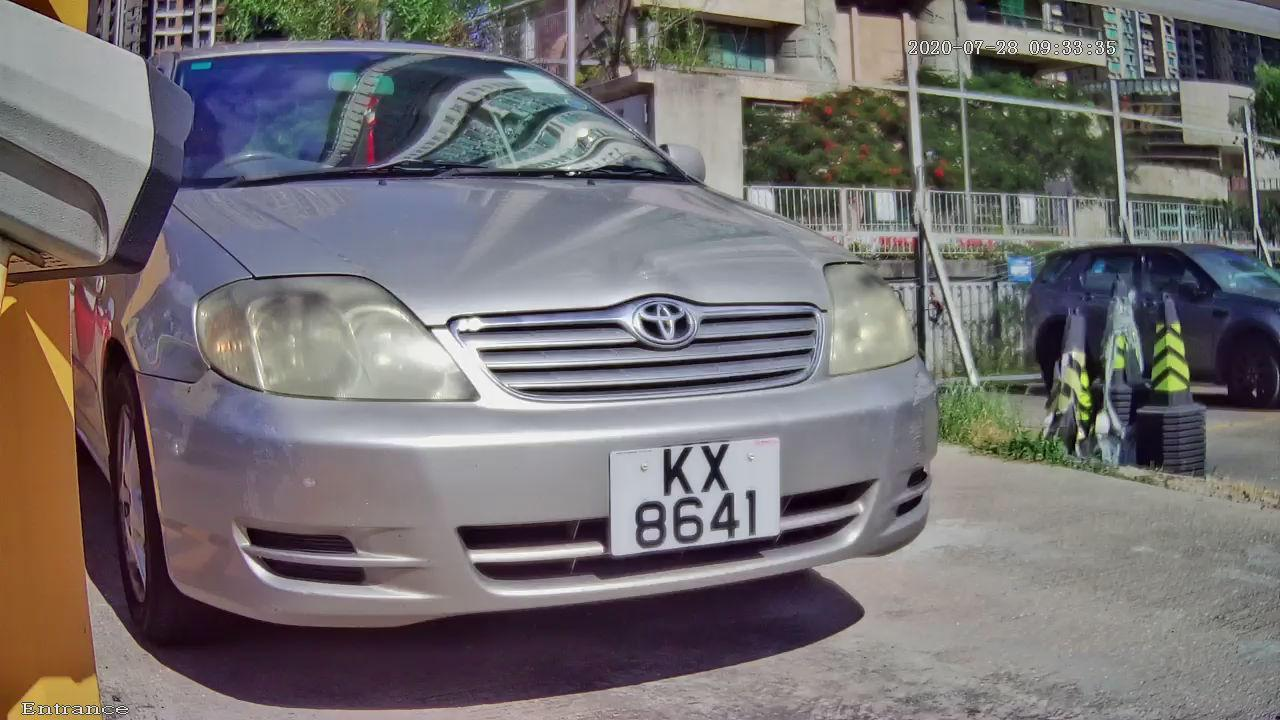privatecar: (41, 17, 1069, 685)
